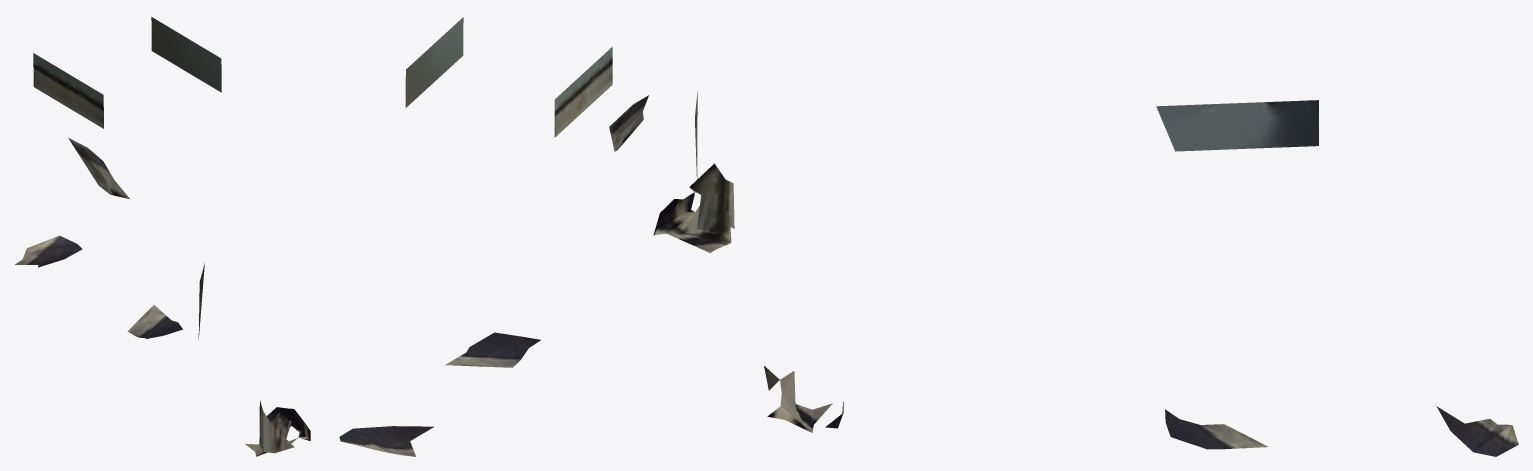
Rendered from hero-brandenburger-tor-3898_58196-material-4.glb.
3 renders of one model, left to right at view 1: azimuth 30°, elevation 25°; view 2: azimuth 150°, elevation 25°; view 3: azimuth 270°, elevation 25°, orthographic. The views are drawn at different scales.
Visible parts, largest first — view 1: world; view 2: world; view 3: world.
Boxes of the visible parts, left/top/right/bottom form: world: left=15, top=17, right=310, bottom=456; world: left=339, top=17, right=734, bottom=456; world: left=764, top=100, right=1518, bottom=456.
Size of the model in its own units: 11.34 by 19.97 by 36.74.
Materials: 1 (1 with a texture image).
